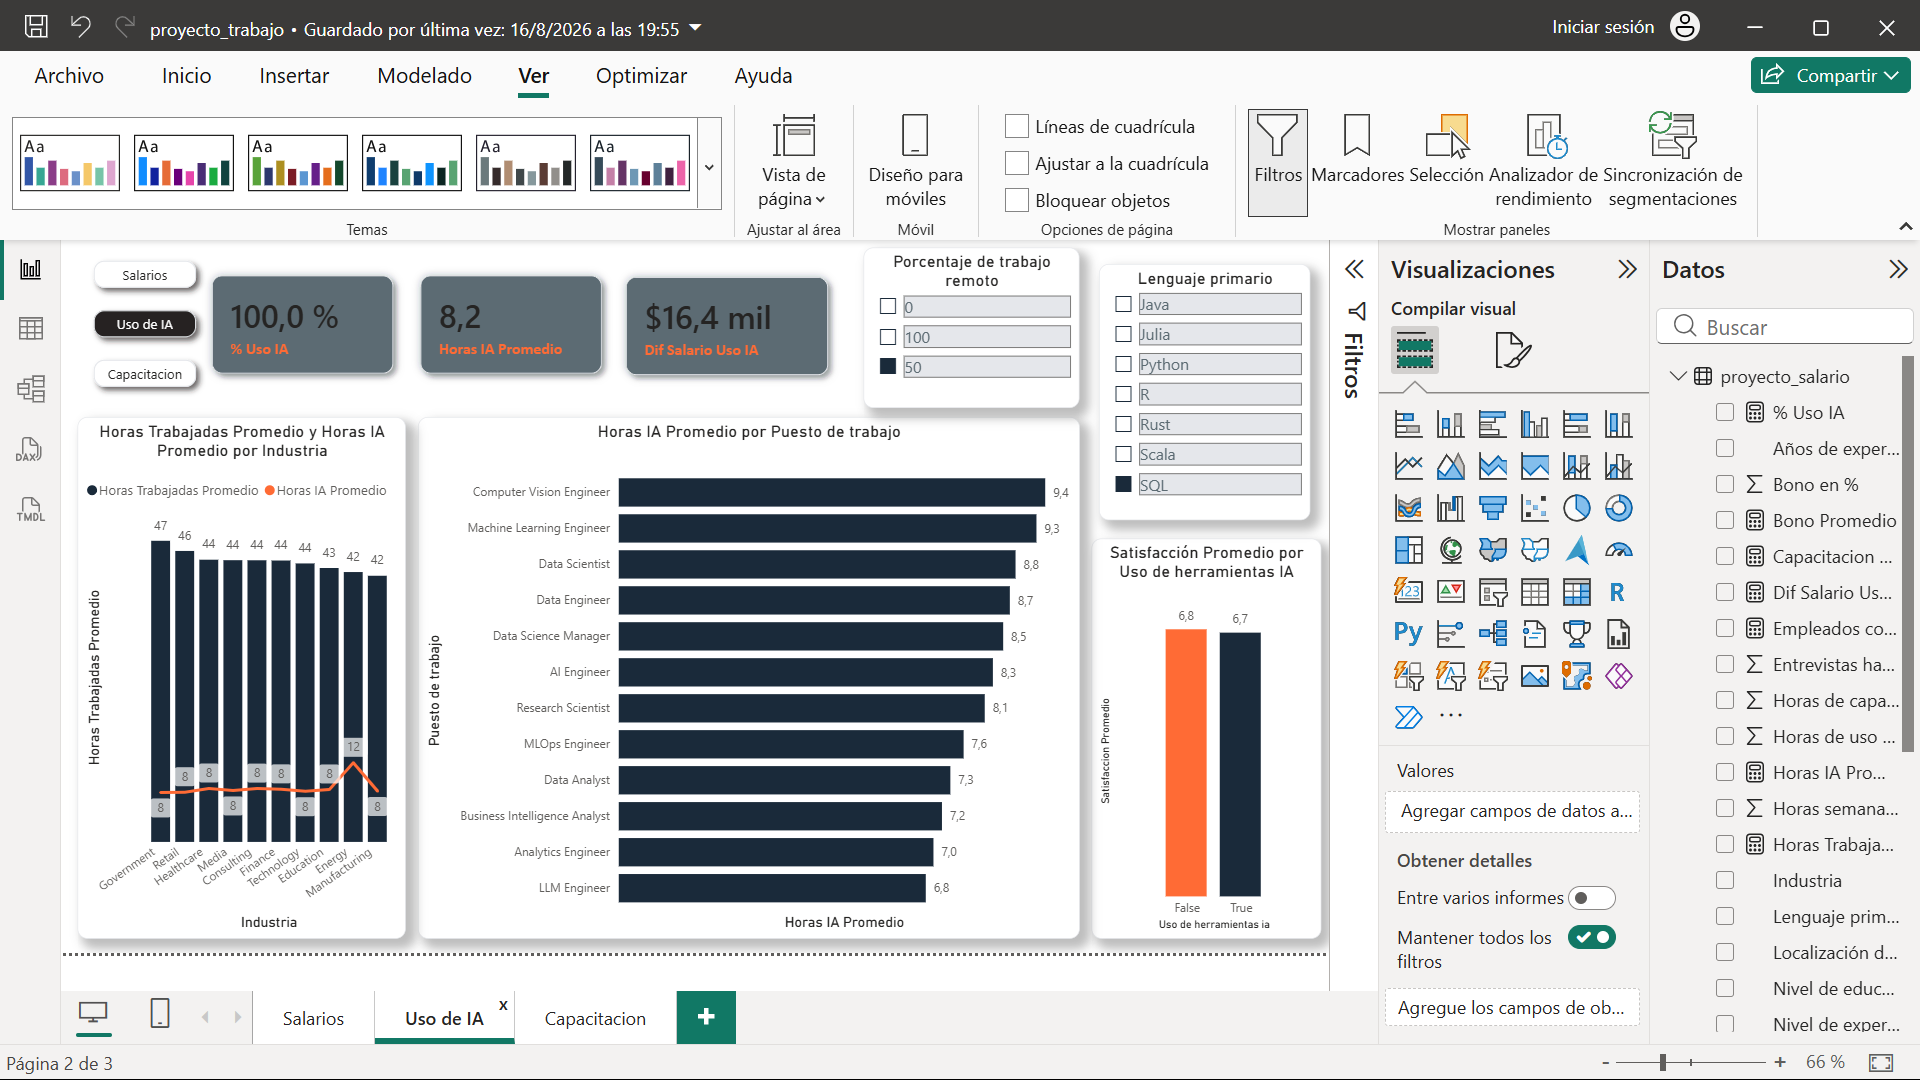

The dashboard page shown, as its layout file describes it:
{"tool":"powerbi","page":{"name":"Uso de IA","canvas":[1280,720],"ordinal":1},"visuals":[{"type":"clusteredColumnChart","title":"Satisfacción Promedio por Uso de herramientas IA","fields":{"Category":["ai_ds_job_salaries_2026.Uso de herramientas ia "],"Y":["proyecto_salario.Satisfaccion Promedio"]},"box":[1040.3,301.3,231.7,404.3],"z":0},{"type":"barChart","fields":{"Category":["ai_ds_job_salaries_2026.Puesto de trabajo"],"Y":["proyecto_salario.Horas IA Promedio"]},"box":[360.4,178.7,667.8,526.9],"z":1000},{"type":"lineClusteredColumnComboChart","fields":{"Category":["proyecto_salario.Industria"],"Y2":["proyecto_salario.Horas IA Promedio"],"Y":["proyecto_salario.Horas Trabajadas Promedio"]},"box":[16.7,178.7,331.6,526.9],"z":2000},{"type":"slicer","title":"Porcentaje de trabajo remoto","fields":{"Values":["proyecto_salario.Porcentaje de trabajo remoto "]},"box":[810.1,7.6,218,162],"z":3000},{"type":"slicer","title":"Lenguaje primario","fields":{"Values":["proyecto_salario.Lenguague primario"]},"box":[1047.3,23.7,213.5,258.9],"z":4000},{"type":"cardVisual","fields":{"Data":["proyecto_salario.Horas IA Promedio"]},"box":[337.7,10.6,233.2,149.9],"z":5000},{"type":"cardVisual","fields":{"Data":["proyecto_salario.Dif Salario Uso IA"]},"box":[545.1,12.1,254.4,149.9],"z":6000},{"type":"pageNavigator","box":[22.7,10.6,124.2,148.4],"z":7000},{"type":"cardVisual","fields":{"Data":["proyecto_salario.% Uso IA"]},"box":[127.2,10.6,233.2,149.9],"z":8000}]}

Visuals, with their boxes on the page's 1280x720 design canvas (x1, y1, x2, y2). These are canvas units, not pixel positions in the 1920x1080 screenshot, which may show the page scaled, cropped or inside an application window:
"Satisfacción Promedio por Uso de herramientas IA" clusteredColumnChart: 1040, 301, 1272, 706
barChart - ai_ds_job_salaries_2026.Puesto de trabajo x proyecto_salario.Horas IA Promedio: 360, 179, 1028, 706
lineClusteredColumnComboChart - proyecto_salario.Industria x proyecto_salario.Horas IA Promedio: 17, 179, 348, 706
"Porcentaje de trabajo remoto" slicer: 810, 8, 1028, 170
"Lenguaje primario" slicer: 1047, 24, 1261, 283
cardVisual - proyecto_salario.Horas IA Promedio: 338, 11, 571, 160
cardVisual - proyecto_salario.Dif Salario Uso IA: 545, 12, 800, 162
pageNavigator: 23, 11, 147, 159
cardVisual - proyecto_salario.% Uso IA: 127, 11, 360, 160
